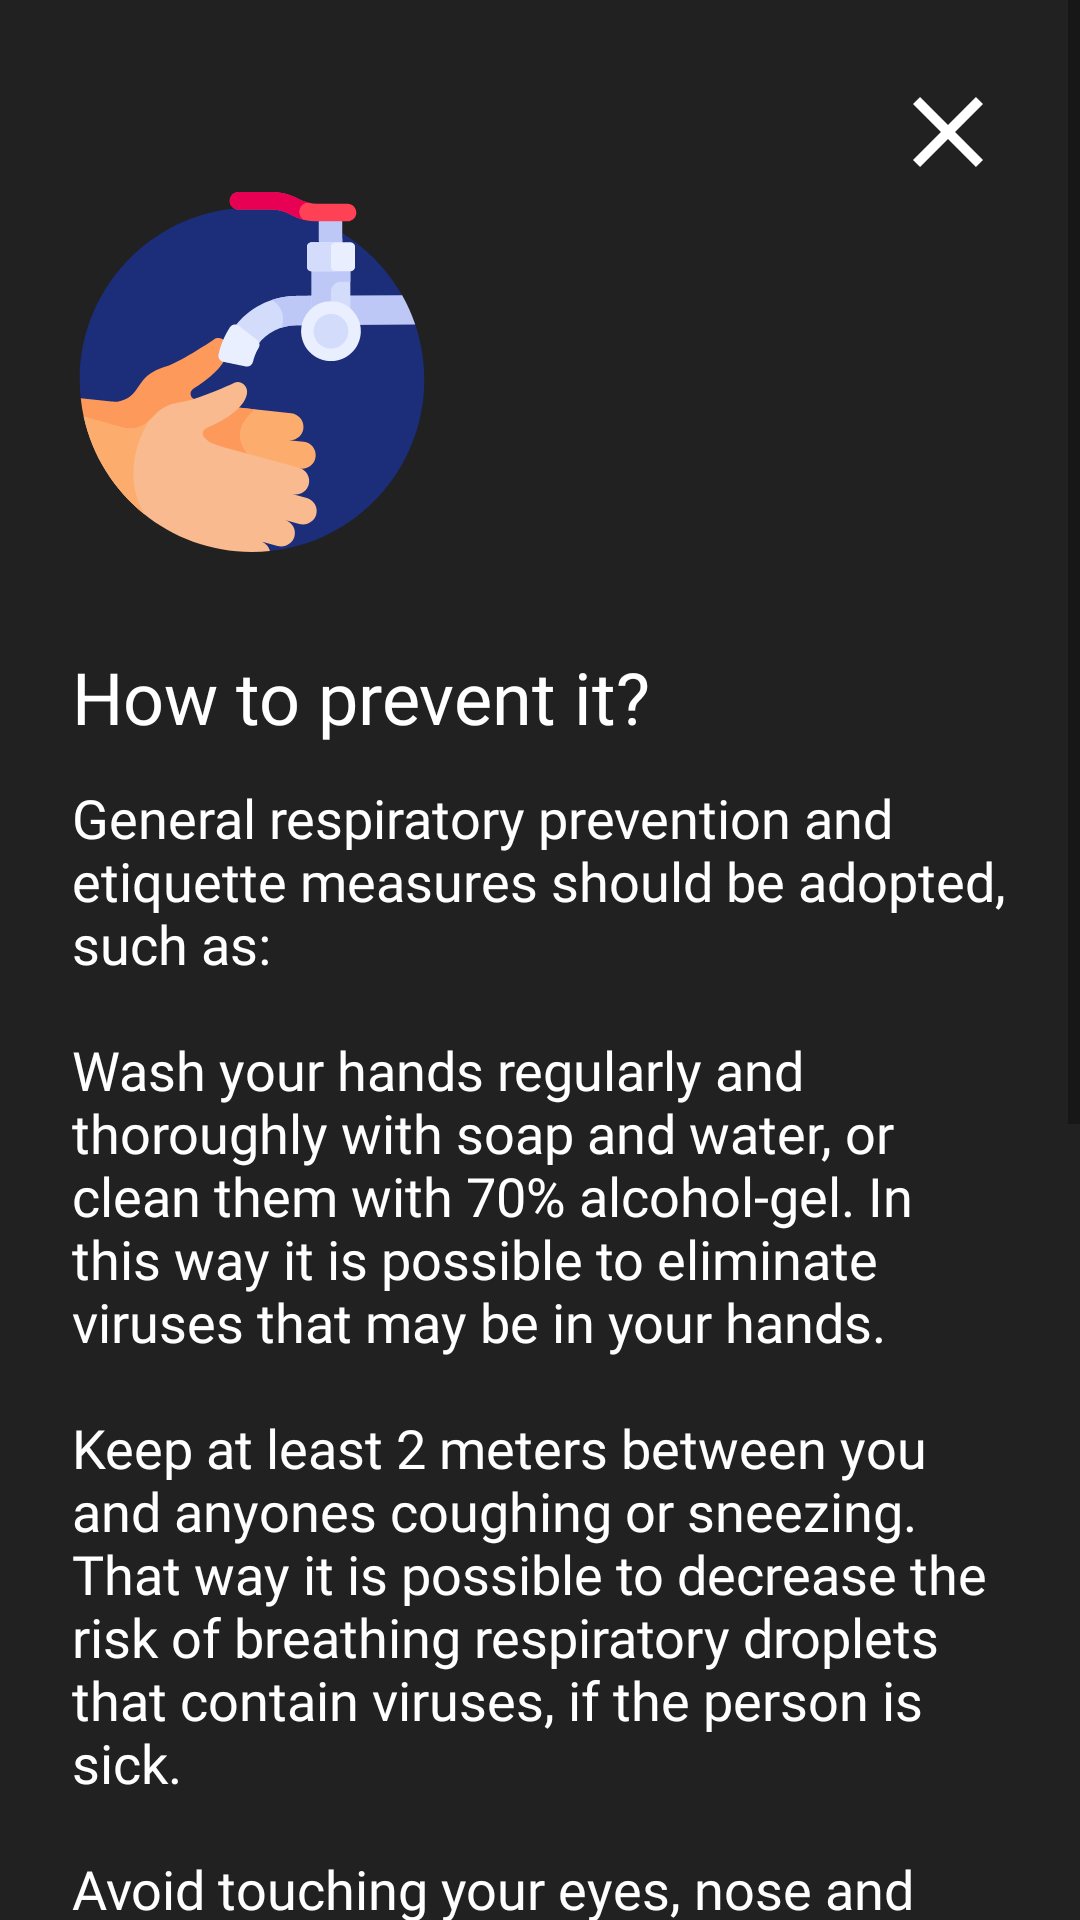

Screen size 1080w x 1920h. Icon name, then its box in pixels as (x1, y1, x2, y2):
close: (913, 97, 983, 167)
hands: (79, 192, 424, 552)
